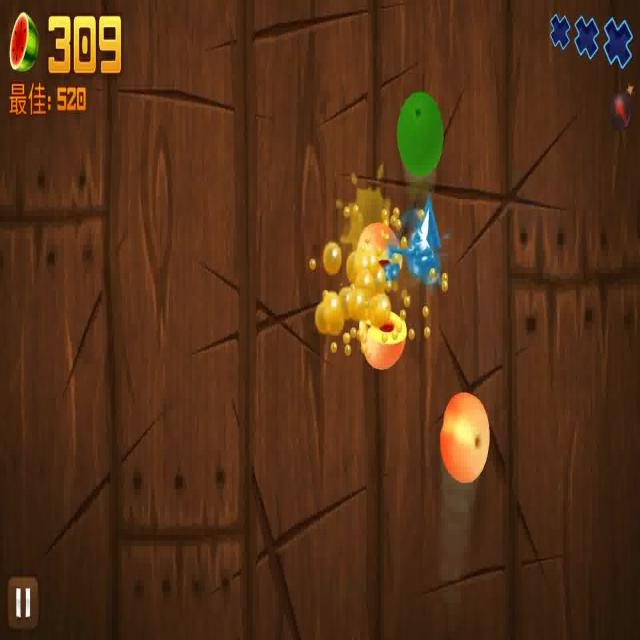fruit: (440, 390, 490, 480), (396, 90, 444, 174), (356, 305, 406, 371), (351, 225, 400, 281)
